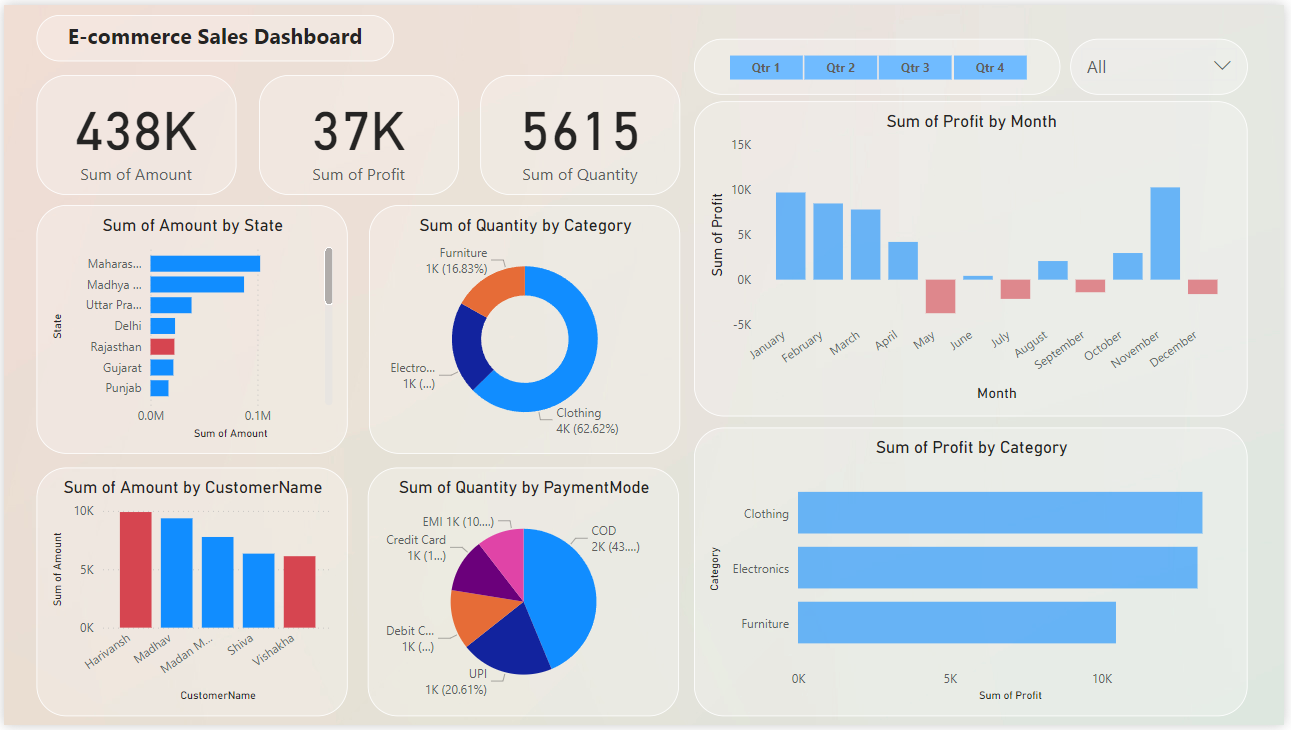

What the dashboard file says about the page in this screenshot:
{"tool":"powerbi","page":{"name":"Page 1","canvas":[1280,720],"ordinal":0},"visuals":[{"type":"textbox","box":[32.5,10,357.5,46.2],"z":0},{"type":"columnChart","fields":{"Y":["Details.Profit"],"Category":["Orders.Order Date.Variation.Date Hierarchy.Month"]},"box":[690.2,96,553.8,315],"z":1000},{"type":"clusteredBarChart","fields":{"Y":["Details.Profit"],"Category":["Details.Category"]},"box":[690.2,422.3,553.8,288.8],"z":2000},{"type":"donutChart","fields":{"Y":["Details.Quantity"],"Category":["Details.Category"]},"box":[365.2,199.8,311.2,248.8],"z":3000},{"type":"pieChart","fields":{"Category":["Details.PaymentMode"],"Y":["Details.Quantity"]},"box":[364,462.3,311.2,248.8],"z":4000},{"type":"clusteredBarChart","fields":{"Y":["Details.Amount"],"Category":["Orders.State"]},"box":[32.7,199.8,311.2,248.8],"z":5000},{"type":"columnChart","fields":{"Category":["Orders.CustomerName"],"Y":["Details.Amount"]},"box":[32.7,462.3,311.2,248.8],"z":6000},{"type":"card","fields":{"Values":["Details.Amount"]},"box":[32.5,70,200,120],"z":7000},{"type":"card","fields":{"Values":["Details.Profit"]},"box":[255.2,70.3,200,120],"z":8000},{"type":"card","fields":{"Values":["Details.Quantity"]},"box":[476.2,70,200,120],"z":9000},{"type":"slicer","fields":{"Values":["Orders.Order Date.Variation.Date Hierarchy.Quarter"]},"box":[690,33.8,366.2,56.2],"z":10000},{"type":"slicer","fields":{"Values":["Orders.State"]},"box":[1066.2,33.8,177.5,56.2],"z":11000}]}

Visuals, with their boxes in screenshot pixels (x1, y1, x2, y2), scaled from the page's 1280x720 canvas onto the 1291x730 screenshot:
textbox: BBox(33, 10, 393, 57)
columnChart - Details.Profit x Orders.Order Date.Variation.Date Hierarchy.Month: BBox(696, 97, 1255, 417)
clusteredBarChart - Details.Profit x Details.Category: BBox(696, 428, 1255, 721)
donutChart - Details.Quantity x Details.Category: BBox(368, 203, 682, 455)
pieChart - Details.PaymentMode x Details.Quantity: BBox(367, 469, 681, 721)
clusteredBarChart - Details.Amount x Orders.State: BBox(33, 203, 347, 455)
columnChart - Orders.CustomerName x Details.Amount: BBox(33, 469, 347, 721)
card - Details.Amount: BBox(33, 71, 234, 193)
card - Details.Profit: BBox(257, 71, 459, 193)
card - Details.Quantity: BBox(480, 71, 682, 193)
slicer - Orders.Order Date.Variation.Date Hierarchy.Quarter: BBox(696, 34, 1065, 91)
slicer - Orders.State: BBox(1075, 34, 1254, 91)
